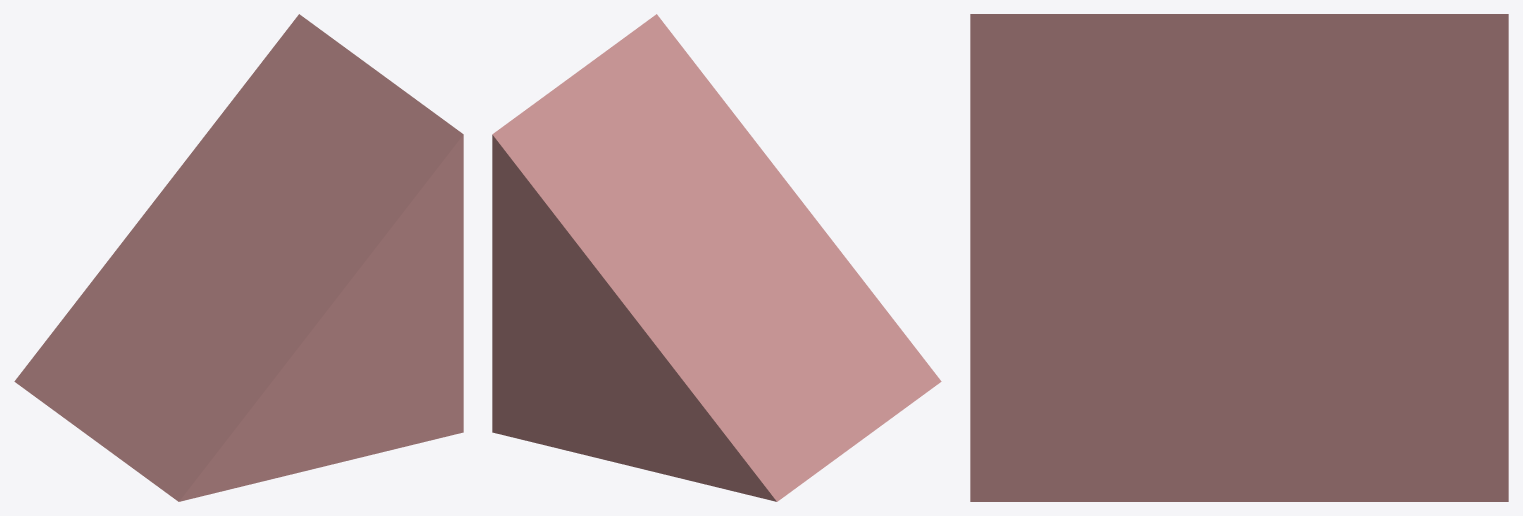
File: Bounce_Slope.glb
3 renders of one model, left to right at view 1: azimuth 30°, elevation 25°; view 2: azimuth 150°, elevation 25°; view 3: azimuth 270°, elevation 25°, orthographic. The views are drawn at different scales.
Parts seen in each view (by area): view 1: Bounce_Slope_body; view 2: Bounce_Slope_body; view 3: Bounce_Slope_body.
Part boxes in pixels (x1,y1,x2,y2): Bounce_Slope_body: [14, 14, 463, 501]; Bounce_Slope_body: [492, 14, 941, 501]; Bounce_Slope_body: [970, 14, 1508, 501].
Size of the model in its own units: 1 by 1 by 1.
